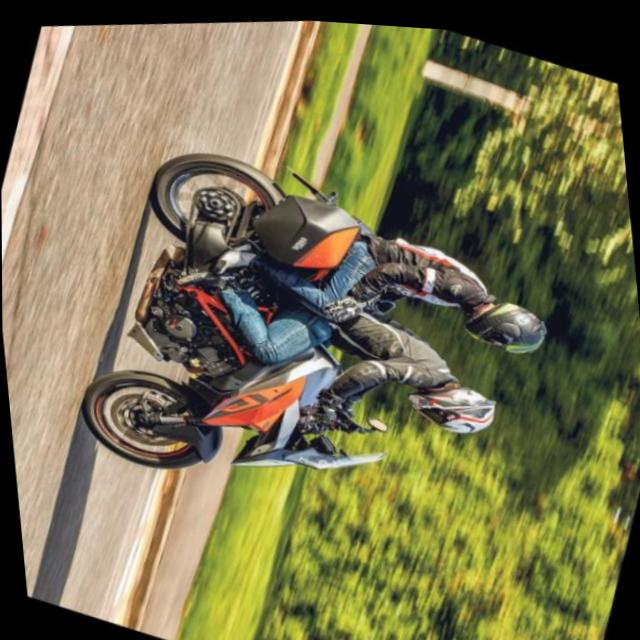WITH_HELMET: (397, 349, 507, 452), (458, 272, 557, 358)
